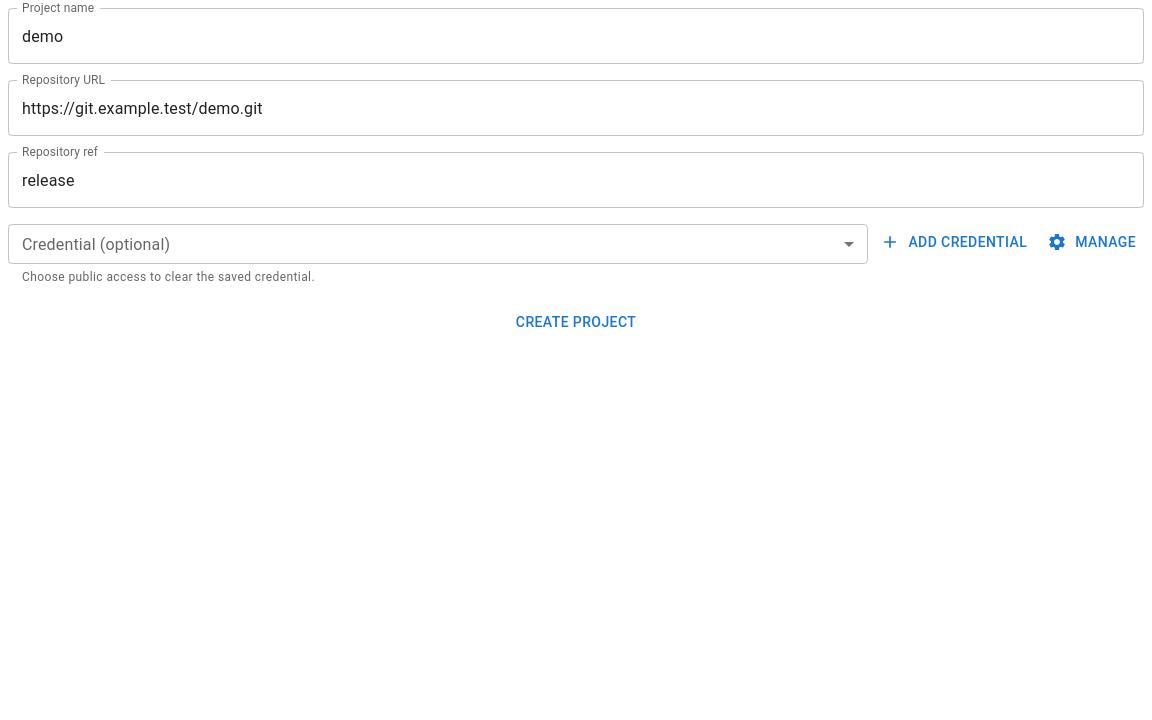
inline "Add credential" dialog does not offer the runtime secret type
Click the button "Add credential" at (956,242), box [876,224,1035,260]
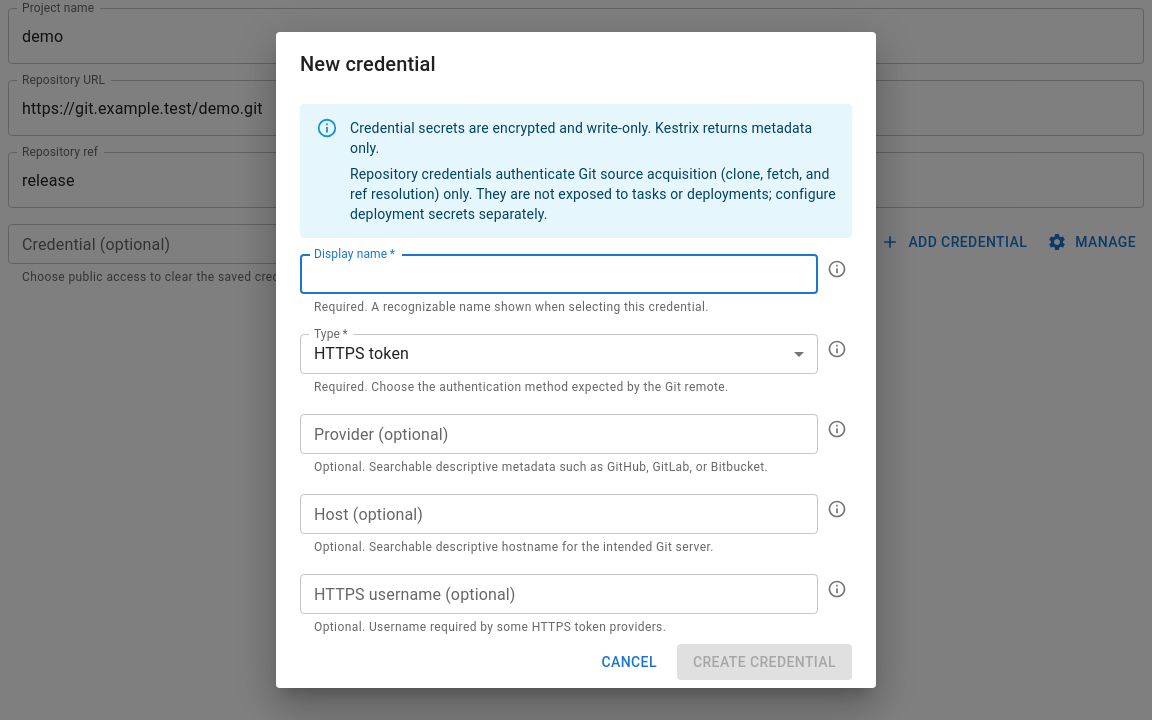
Click the dropdown named "Type" at (362,354), box [314,344,409,364]
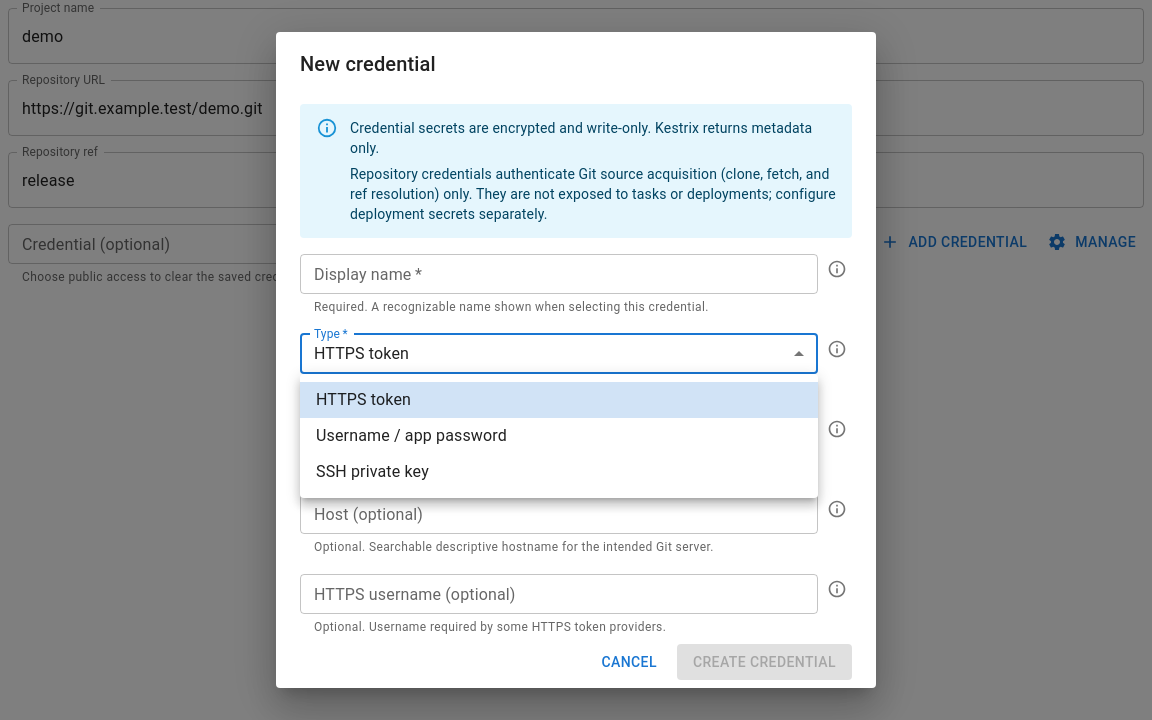
Check: the option "HTTPS token" is shown, box [300,382,818,418]
